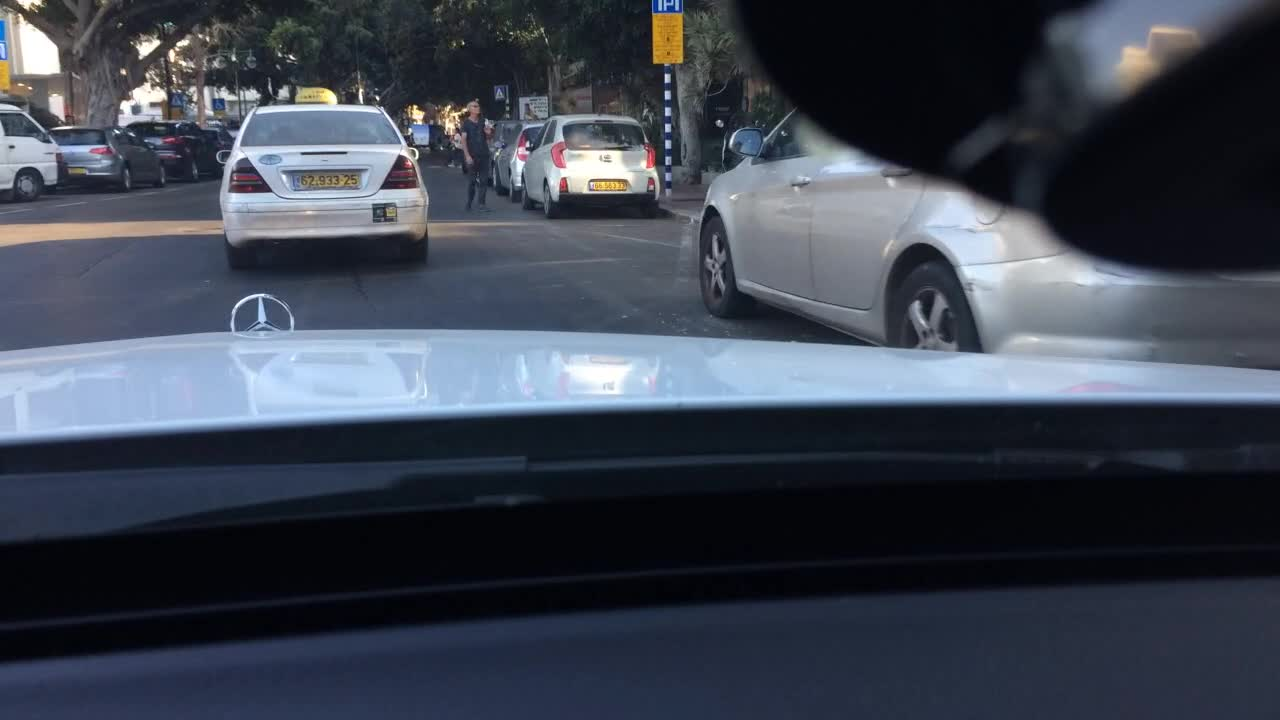car: (695, 0, 1277, 364), (218, 86, 428, 272), (520, 114, 662, 218), (48, 123, 166, 189), (0, 102, 61, 203), (125, 118, 223, 178), (488, 121, 552, 197), (463, 119, 520, 178), (201, 125, 242, 169)
person: (459, 98, 494, 213), (446, 126, 465, 169), (639, 102, 655, 133)
traffic sign: (650, 1, 685, 63), (1, 19, 10, 89), (211, 98, 229, 116), (166, 91, 186, 106), (492, 84, 508, 101)
truck: (410, 123, 453, 147)
